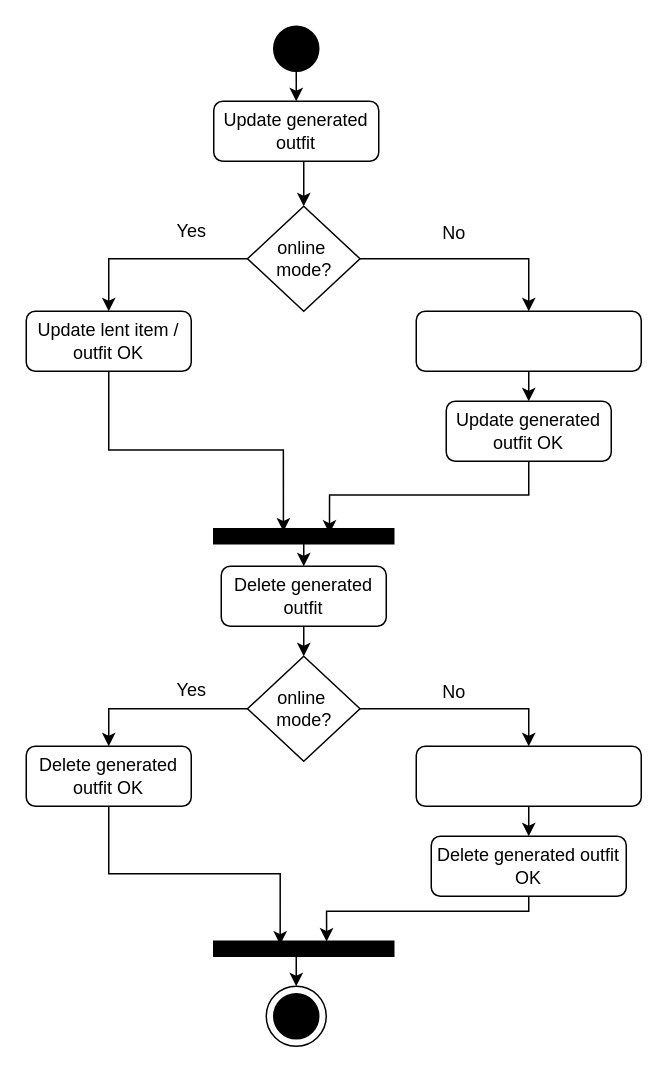
Some shapes in this 668 by 1073 pixel diagram are drawn without their labels. Here are the shapes that lost their labels. From the top down, the box of each, then its label:
(415, 310, 641, 371): Save generated outfit information
(415, 745, 641, 806): Delete Information
